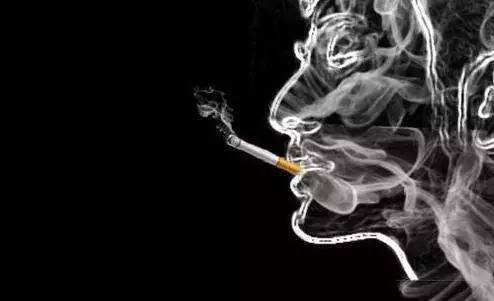yanwu: (195, 87, 234, 132)
